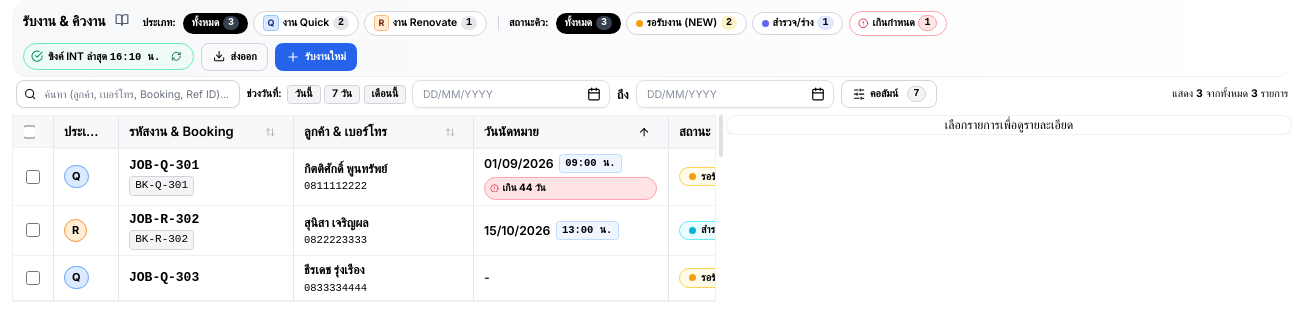
Test: Phase 3 — Toolbar, Filters, Bulk Accept & INT Sync › 1. Status Filter Chips with Counts & Overdue Red Chip › filters list to only NEW jobs when "รอรับงาน (NEW)" chip is clicked
The image size is (1304, 319).
Click the button "รอรับงาน (NEW) 2" at [687, 23], box [626, 12, 747, 34]
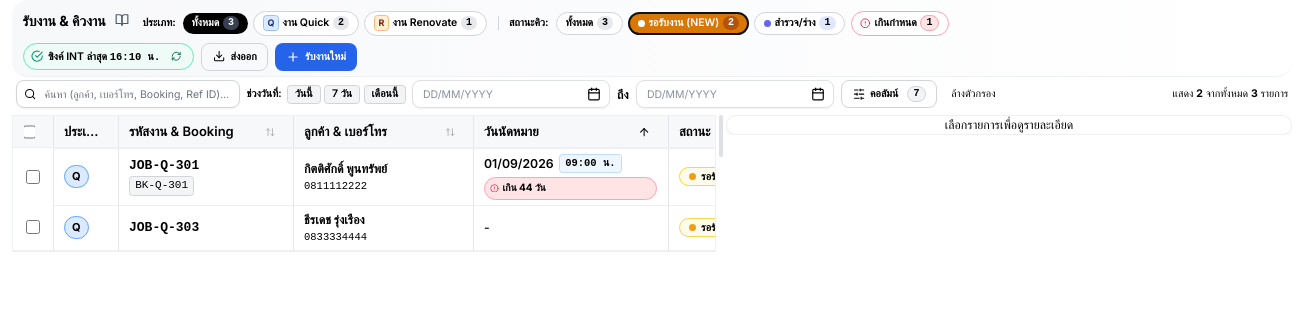
Check: the text "กิตติศักดิ์ พูนทรัพย์" is shown, box [304, 161, 387, 176]
Check: the text "สุนิสา เจริญผล" is gone
